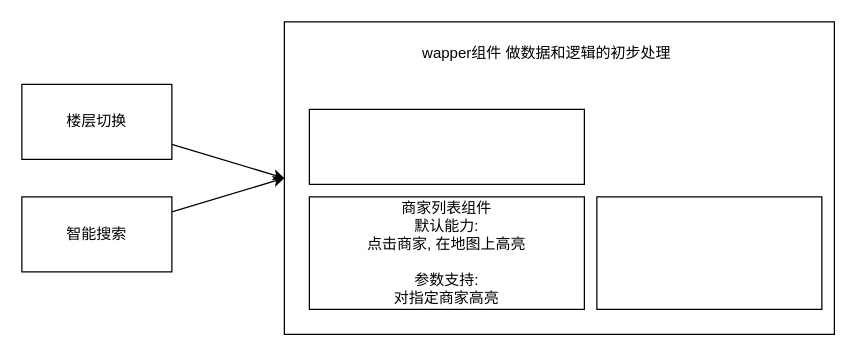
This 856x356 diagram has some shape labels left out. The shapes that lost their labels are listed below. From the top down, each one's centre as x and y in pixels, then its label:
the point at 446,146: 楼层平面图组件 参数支持: 对指定商家高亮
the point at 709,252: 楼层描述 静态展示
